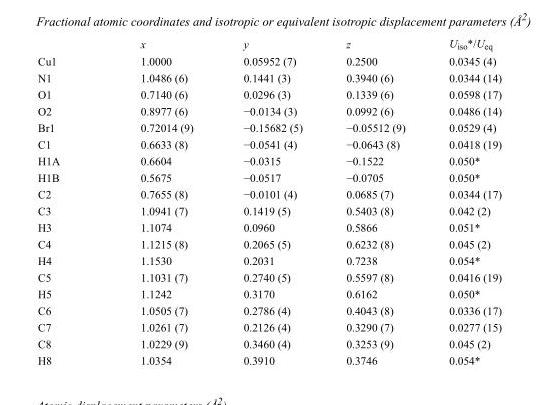table: (37, 36, 501, 366)
table column: (99, 36, 217, 366), (217, 36, 323, 366), (323, 36, 426, 366), (426, 36, 501, 366), (37, 36, 99, 366)
table column header: (37, 36, 501, 52)
table row: (37, 52, 501, 69), (37, 85, 501, 102), (37, 118, 501, 135), (37, 135, 501, 152), (37, 168, 501, 185), (37, 185, 501, 202), (37, 218, 501, 235), (37, 251, 501, 268), (37, 268, 501, 285), (37, 301, 501, 318), (37, 318, 501, 335), (37, 36, 501, 52), (37, 69, 501, 85), (37, 102, 501, 118), (37, 152, 501, 168), (37, 202, 501, 218), (37, 235, 501, 251), (37, 285, 501, 301), (37, 335, 501, 351), (37, 351, 501, 366)
